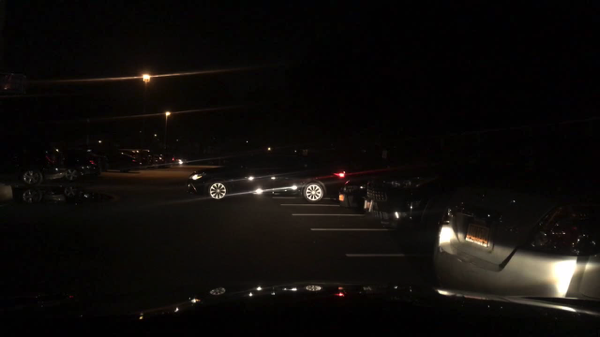car: (431, 157, 599, 305), (362, 161, 496, 235), (184, 155, 345, 205), (0, 145, 101, 186), (338, 174, 386, 213), (69, 148, 110, 171), (107, 153, 143, 171), (160, 154, 188, 167), (118, 148, 142, 160), (150, 155, 165, 168), (141, 151, 153, 164)
